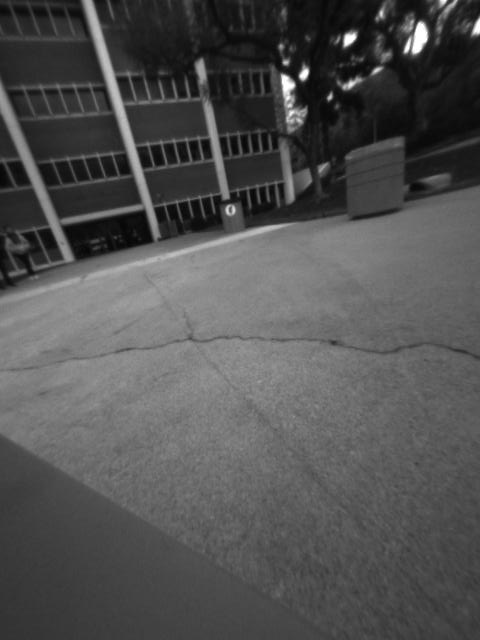trashcan: (343, 130, 407, 219), (218, 196, 250, 234)
